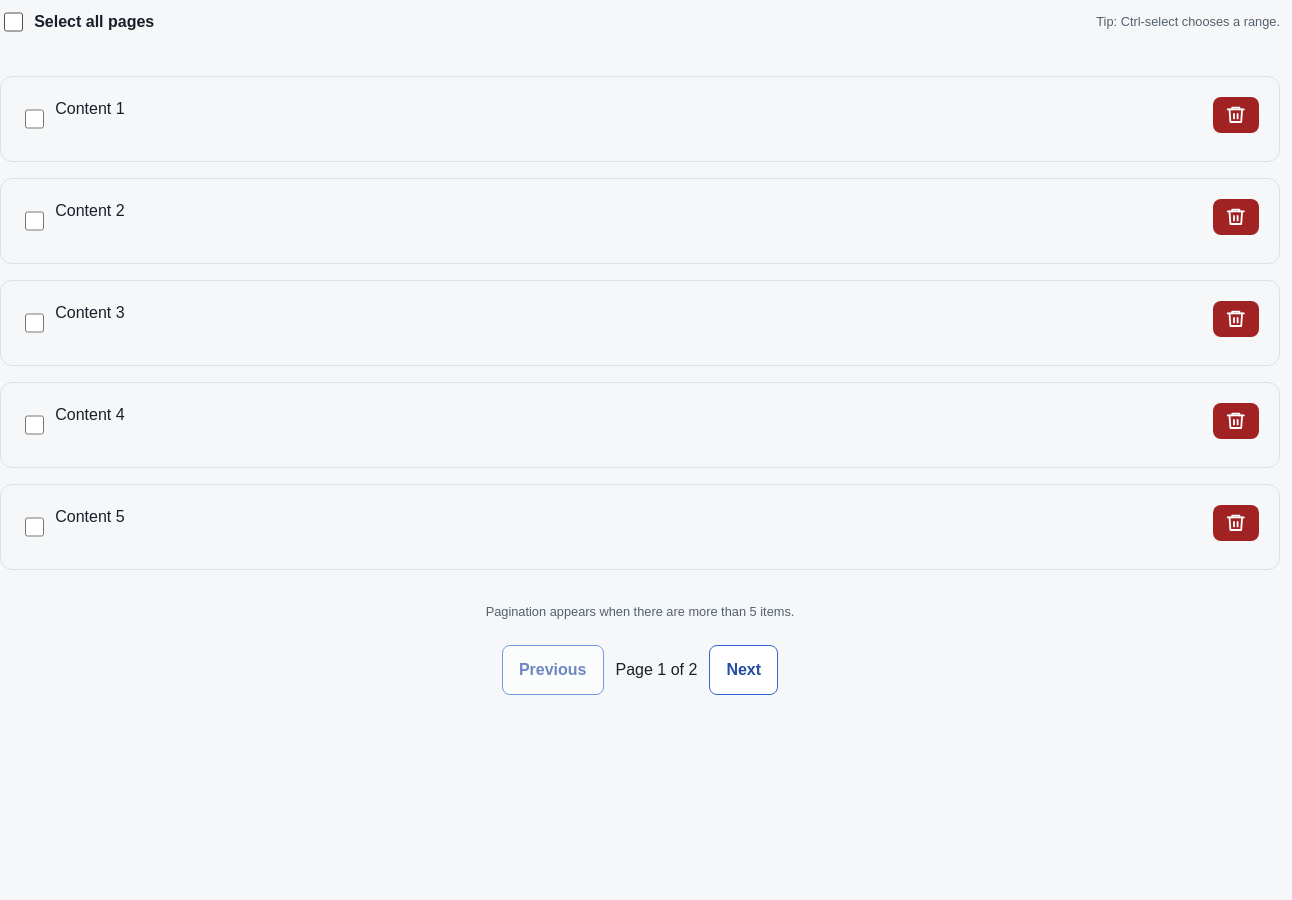
it: PaginatedSelectableList › paginates records without duplicating them
Expected: the text "Content 1" is shown, [55,100,125,117]
Expected: the text "Pagination appears when there are more than 5 items." is shown, [486,604,794,619]
Click the button "Next". click: (744, 670)
box: [709,645,778,695]
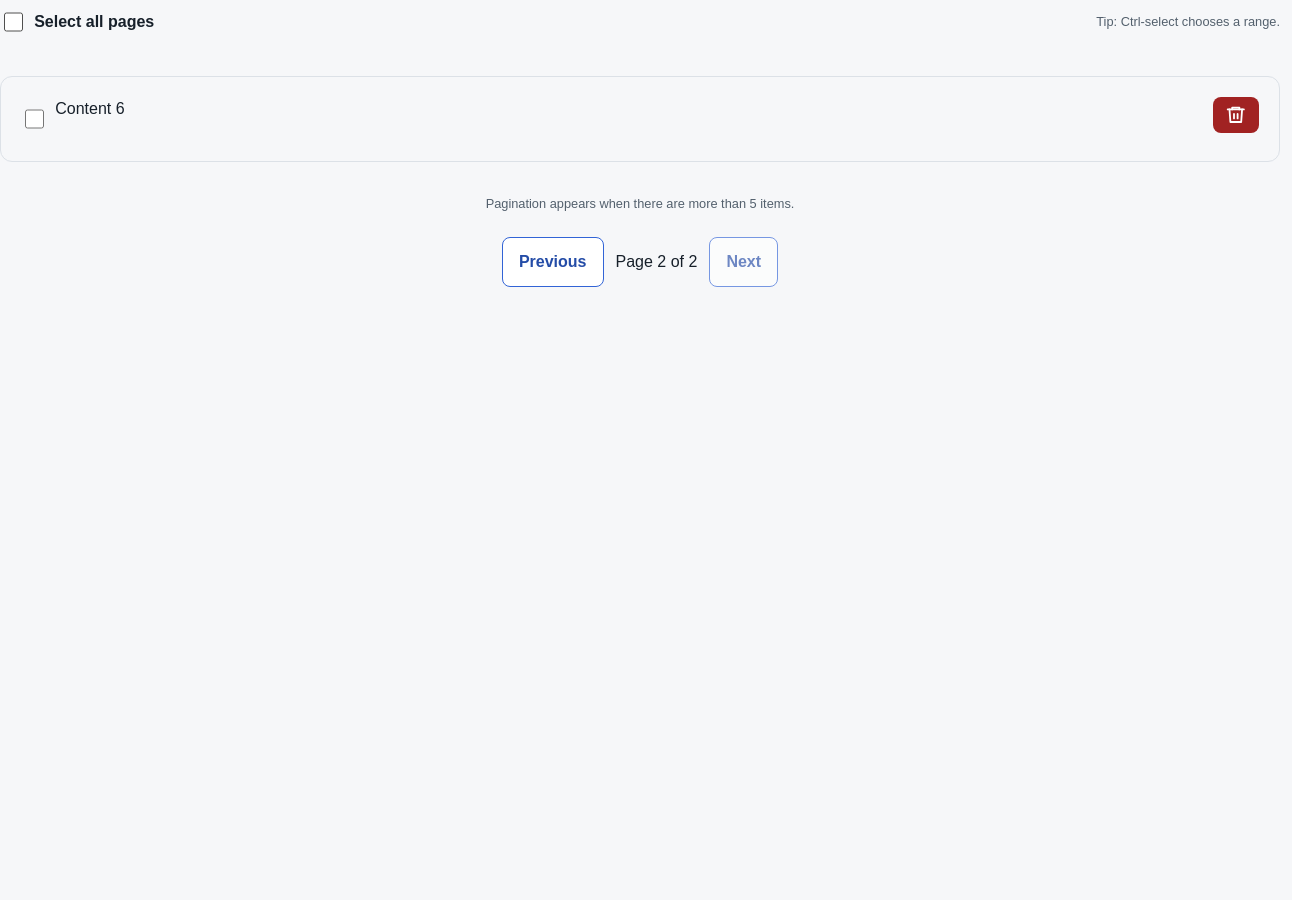
Result: the text "Content 6" is shown at [55,100,125,117]
Result: the text "Content 1" is gone
